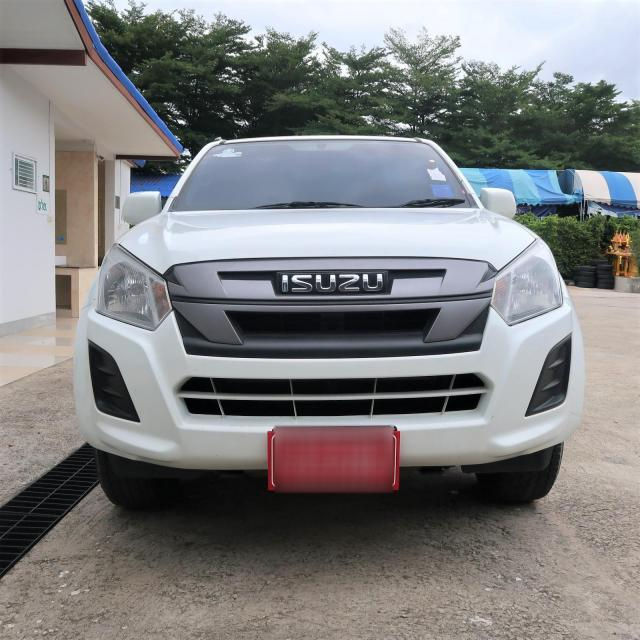front_bumper: (74, 257, 587, 470)
front_glass: (169, 139, 480, 212)
front_left_light: (490, 237, 564, 327)
front_right_light: (96, 243, 174, 330)
hood: (118, 207, 536, 276)
left_mirror: (481, 187, 517, 217)
right_mirror: (121, 190, 162, 225)
